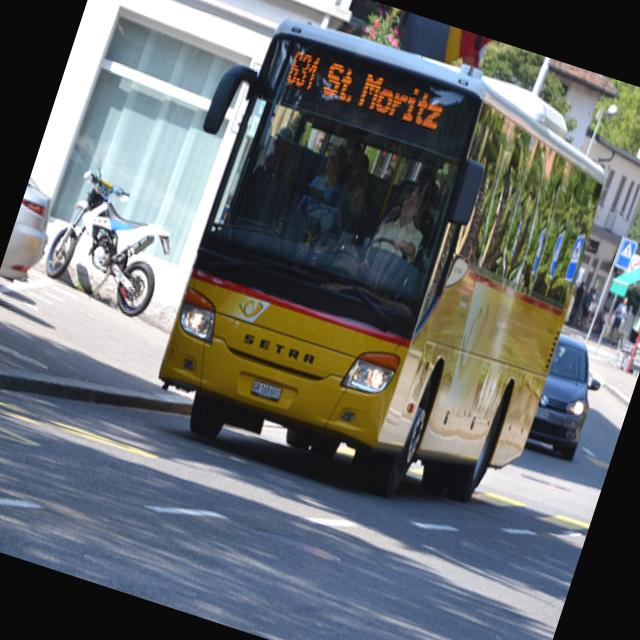Vehicle: (109, 0, 634, 544), (39, 155, 192, 324), (0, 125, 82, 307), (522, 332, 612, 463)
